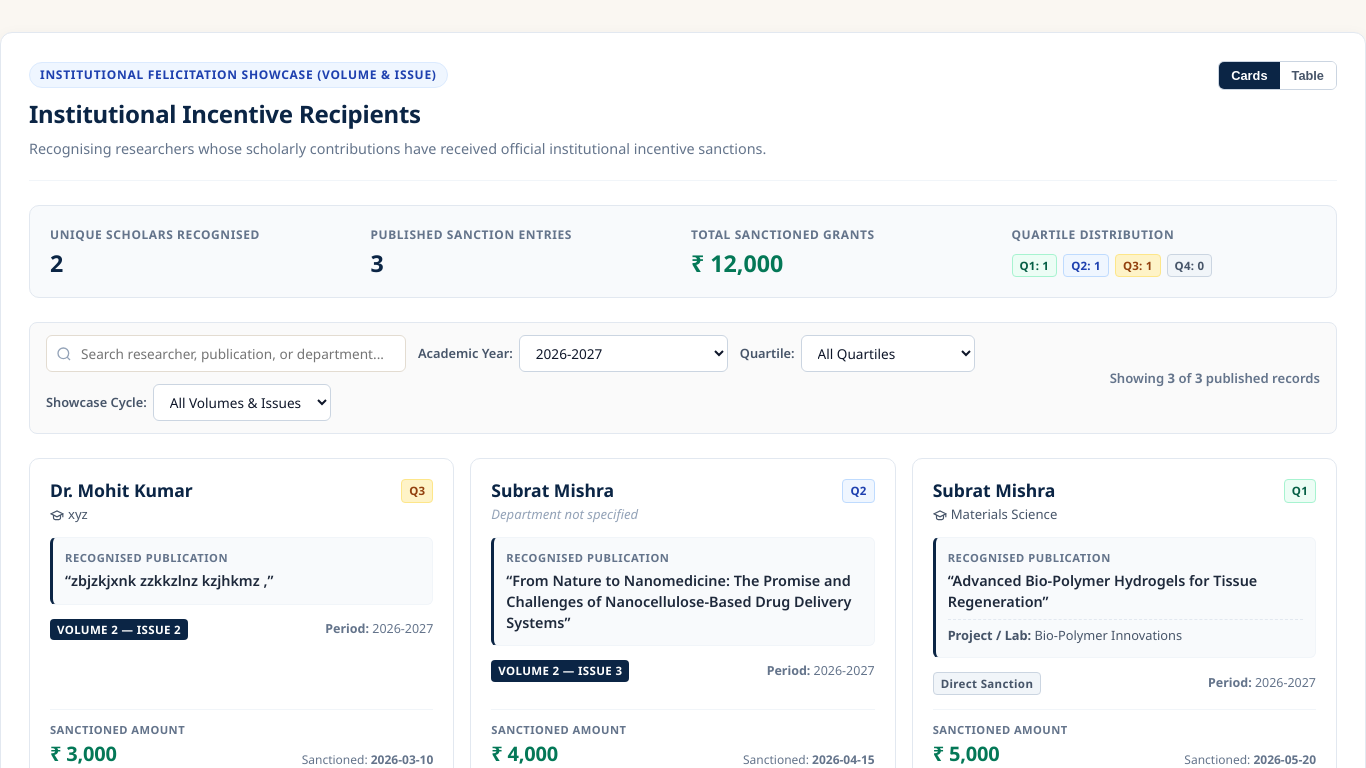
InstitutionalIncentiveRecipients Component Tests › 6. Filters records by search query in real-time
Search by title keyword "Nanomedicine"
Type "Nanomedicine" into the field named "Search incentive records". click: coordinates (226, 354)
box: top-left (46, 336), bottom-right (406, 372)
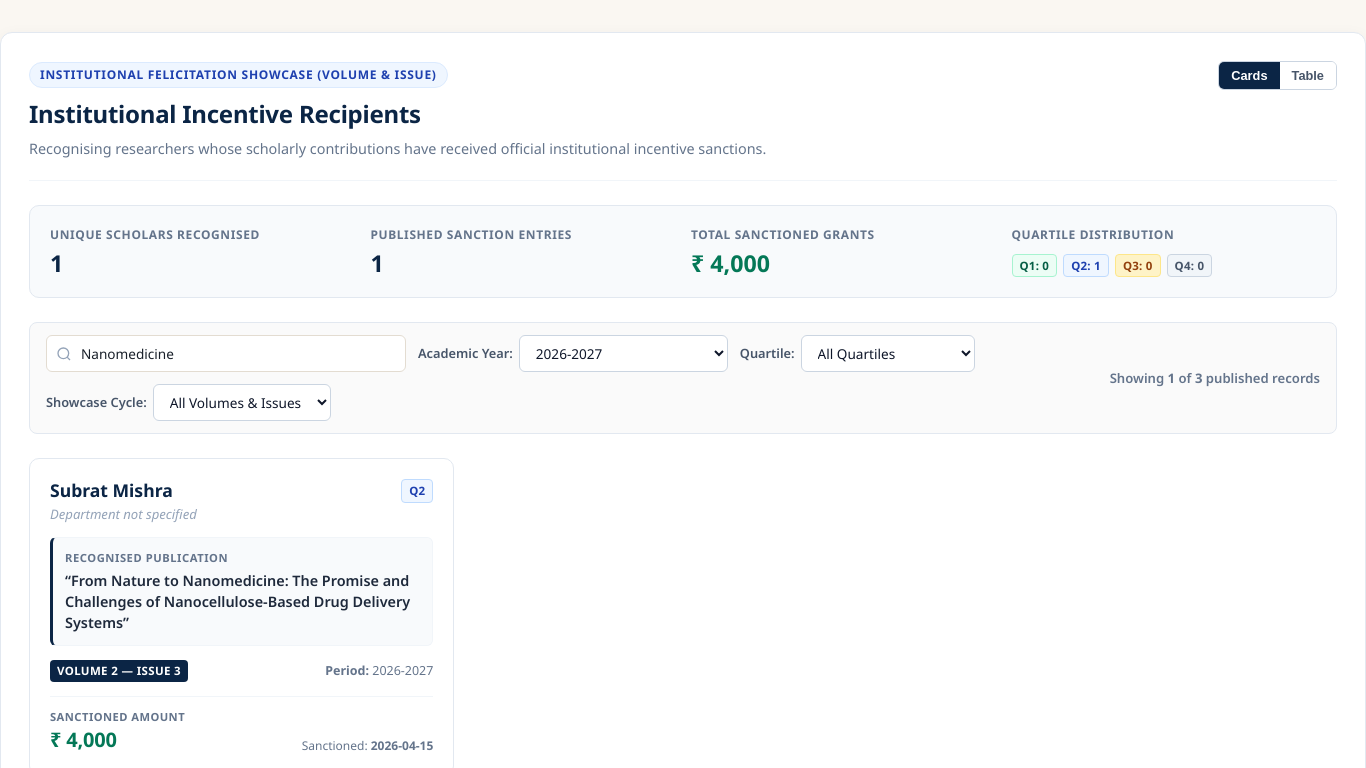
Expected: the text "From Nature to Nanomedicine" is shown, top-left (65, 571), bottom-right (410, 632)
Now the heading "Dr. Mohit Kumar" is gone
